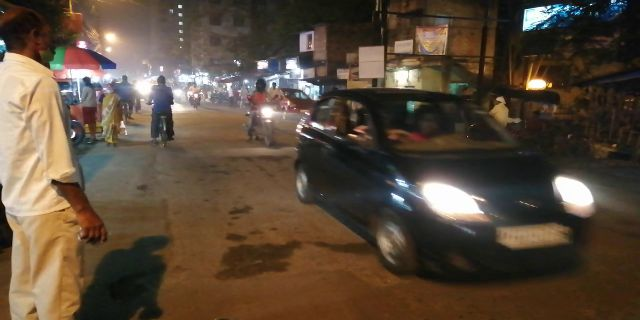Car: (291, 85, 602, 287)
